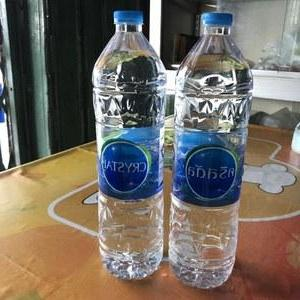bottle: (168, 13, 252, 290), (94, 10, 164, 284)
